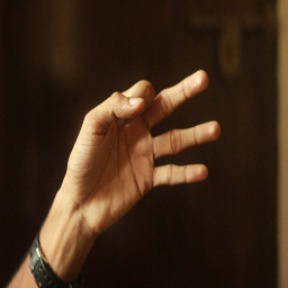K: (65, 64, 223, 211)
